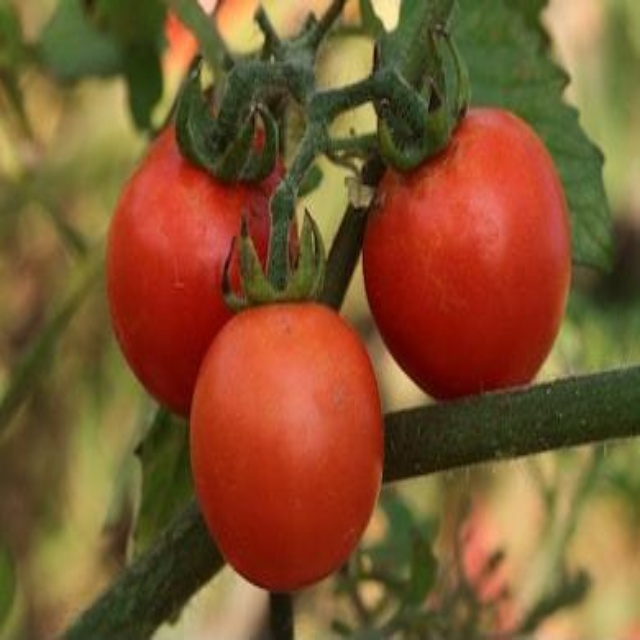tomato: (89, 109, 325, 389), (364, 108, 566, 398), (191, 311, 389, 584)
